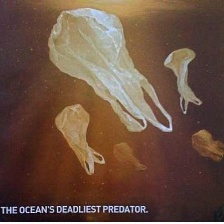plastic_bag: (45, 5, 173, 135), (51, 102, 105, 177), (160, 41, 207, 116), (109, 139, 148, 174), (188, 125, 223, 162)
